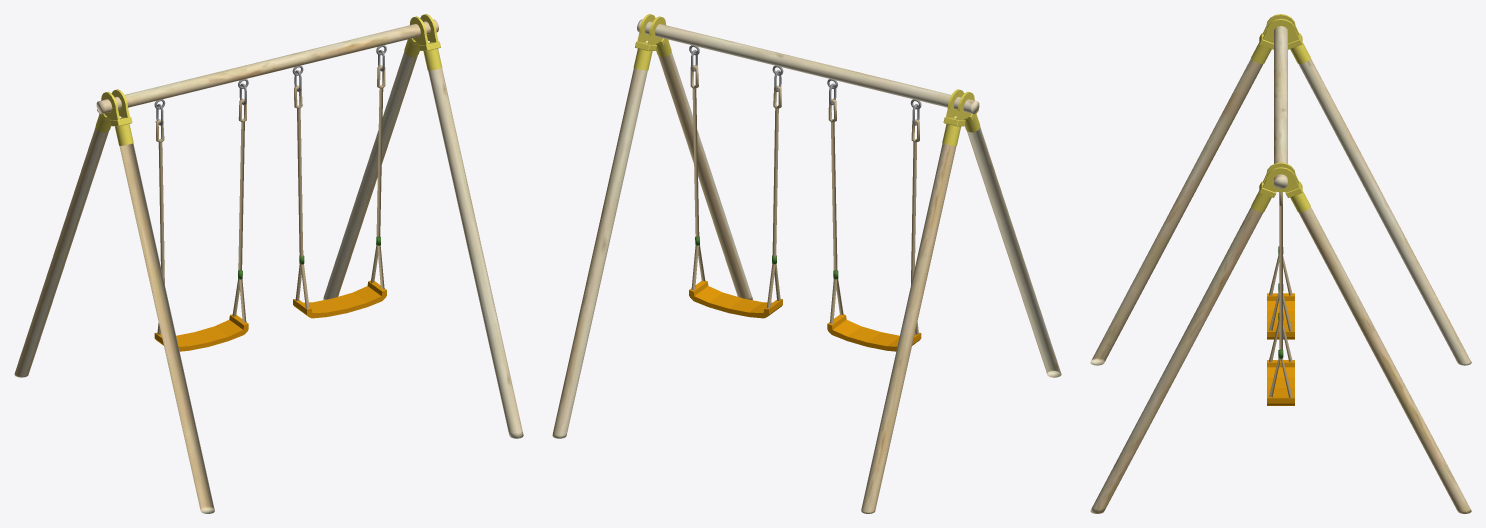
File: sh-scopia-child-swing.glb
3 renders of one model, left to right at view 1: azimuth 30°, elevation 25°; view 2: azimuth 150°, elevation 25°; view 3: azimuth 270°, elevation 25°, orthographic.
Parts seen in each view (by area): view 1: Cylinder.004_Cylinder.007, Circle.001_Circle.002, Cube.001_Cube.002, Cylinder.005_Cylinder.008, Torus.007; view 2: Cylinder.004_Cylinder.007, Circle.001_Circle.002, Cube.001_Cube.002, Cylinder.005_Cylinder.008, Torus.007; view 3: Cylinder.004_Cylinder.007, Cylinder.005_Cylinder.008, Cube.001_Cube.002, Circle.001_Circle.002.
Part boxes in pixels (x1=…): Cylinder.004_Cylinder.007: x1=14, y1=19, x2=523, y2=513; Circle.001_Circle.002: x1=155, y1=65, x2=385, y2=334; Cube.001_Cube.002: x1=154, y1=280, x2=386, y2=351; Cylinder.005_Cylinder.008: x1=95, y1=14, x2=442, y2=145; Torus.007: x1=154, y1=45, x2=386, y2=125; Cylinder.004_Cylinder.007: x1=552, y1=19, x2=1061, y2=513; Circle.001_Circle.002: x1=690, y1=65, x2=919, y2=334; Cube.001_Cube.002: x1=689, y1=280, x2=921, y2=351; Cylinder.005_Cylinder.008: x1=633, y1=14, x2=980, y2=145; Torus.007: x1=689, y1=45, x2=921, y2=125; Cylinder.004_Cylinder.007: x1=1090, y1=26, x2=1471, y2=513; Cylinder.005_Cylinder.008: x1=1251, y1=14, x2=1310, y2=212; Cube.001_Cube.002: x1=1267, y1=293, x2=1294, y2=405; Circle.001_Circle.002: x1=1269, y1=192, x2=1292, y2=397.
Size of the model in its own units: 1 by 1 by 1.
Materials: 6 (1 with a texture image).
